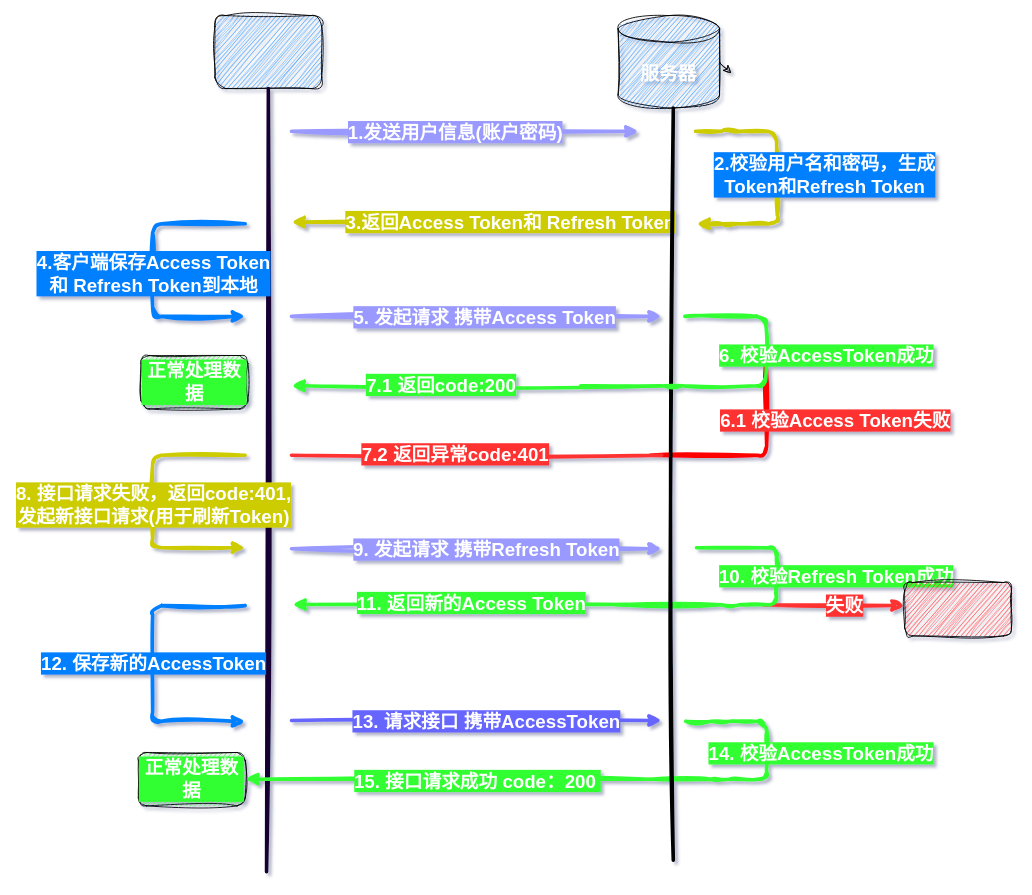
Image size: 1032x895. Some labels were removed from this diagram. Each missing label, with the box of its shape:
客户端: (214, 15, 322, 89)
重新登录: (904, 582, 1011, 636)
